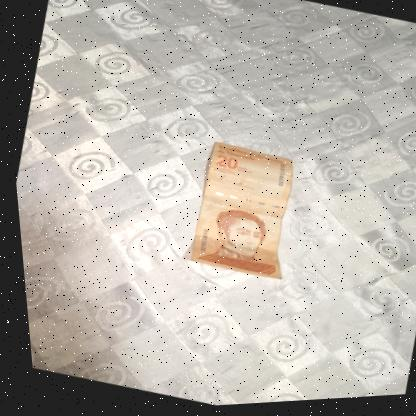vef_front: (175, 138, 306, 287)
